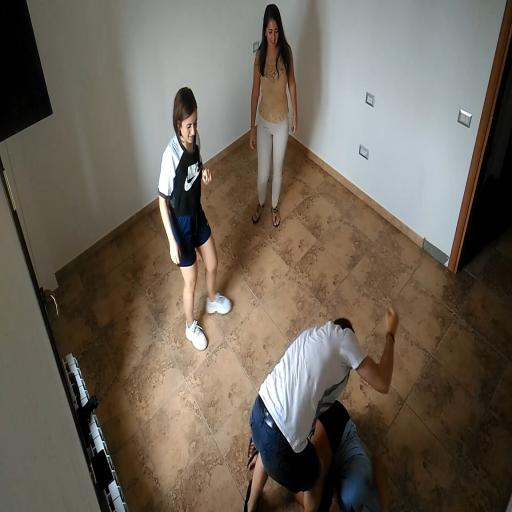violencia: (222, 281, 404, 512)
